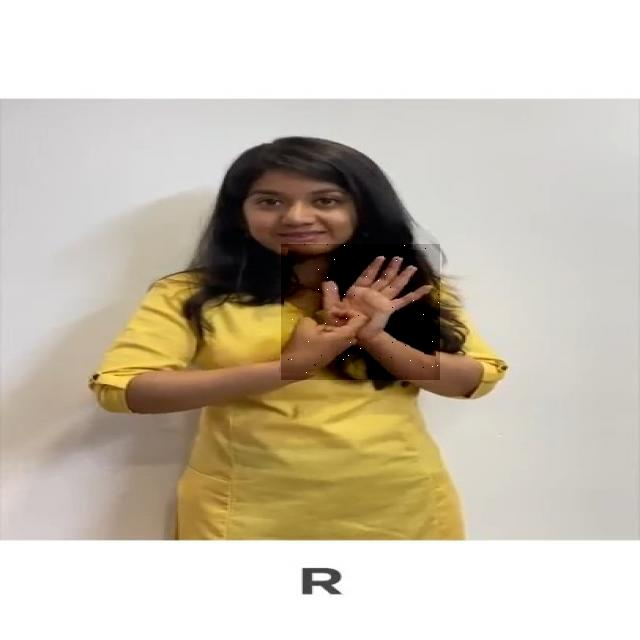R: (281, 244, 440, 380)
